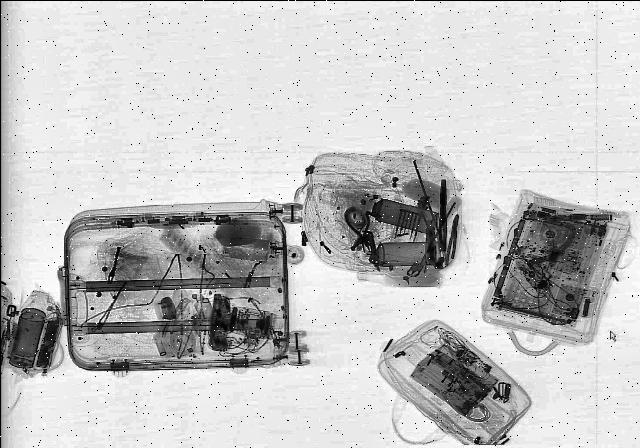Pliers: (442, 212, 460, 266)
